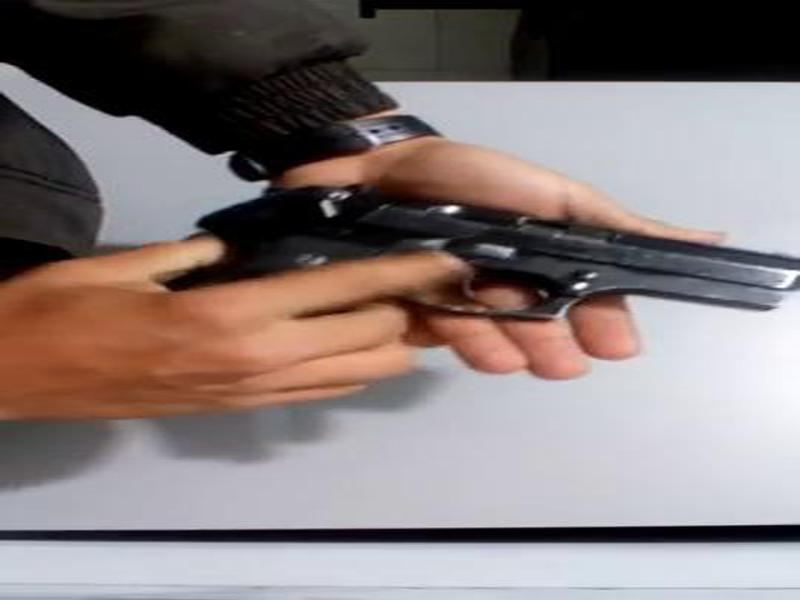Pistola: (132, 152, 800, 404)
